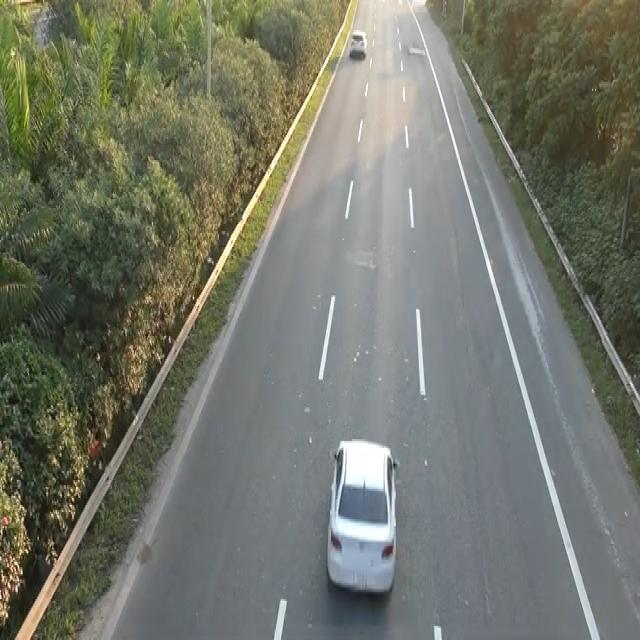bus: (323, 432, 400, 597)
car: (348, 26, 368, 58)
